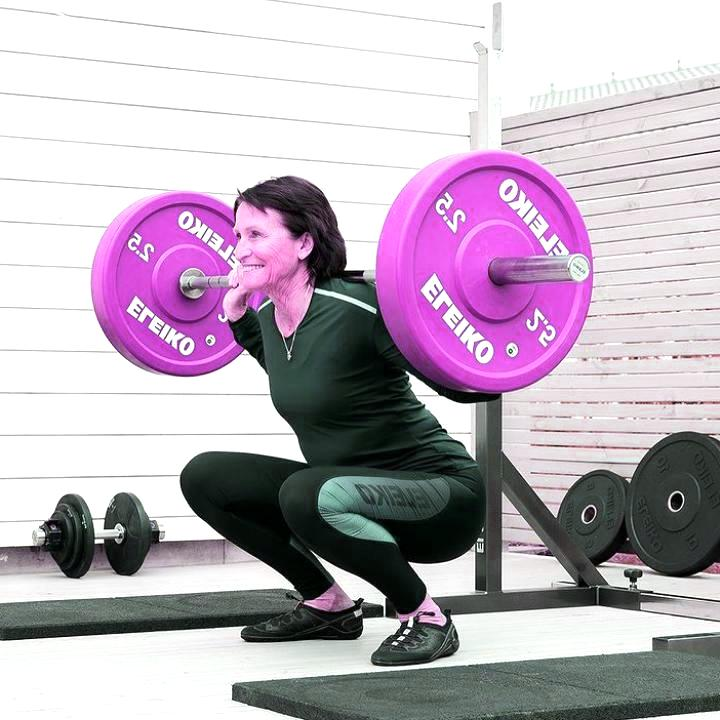Barbell: (561, 254, 592, 285)
